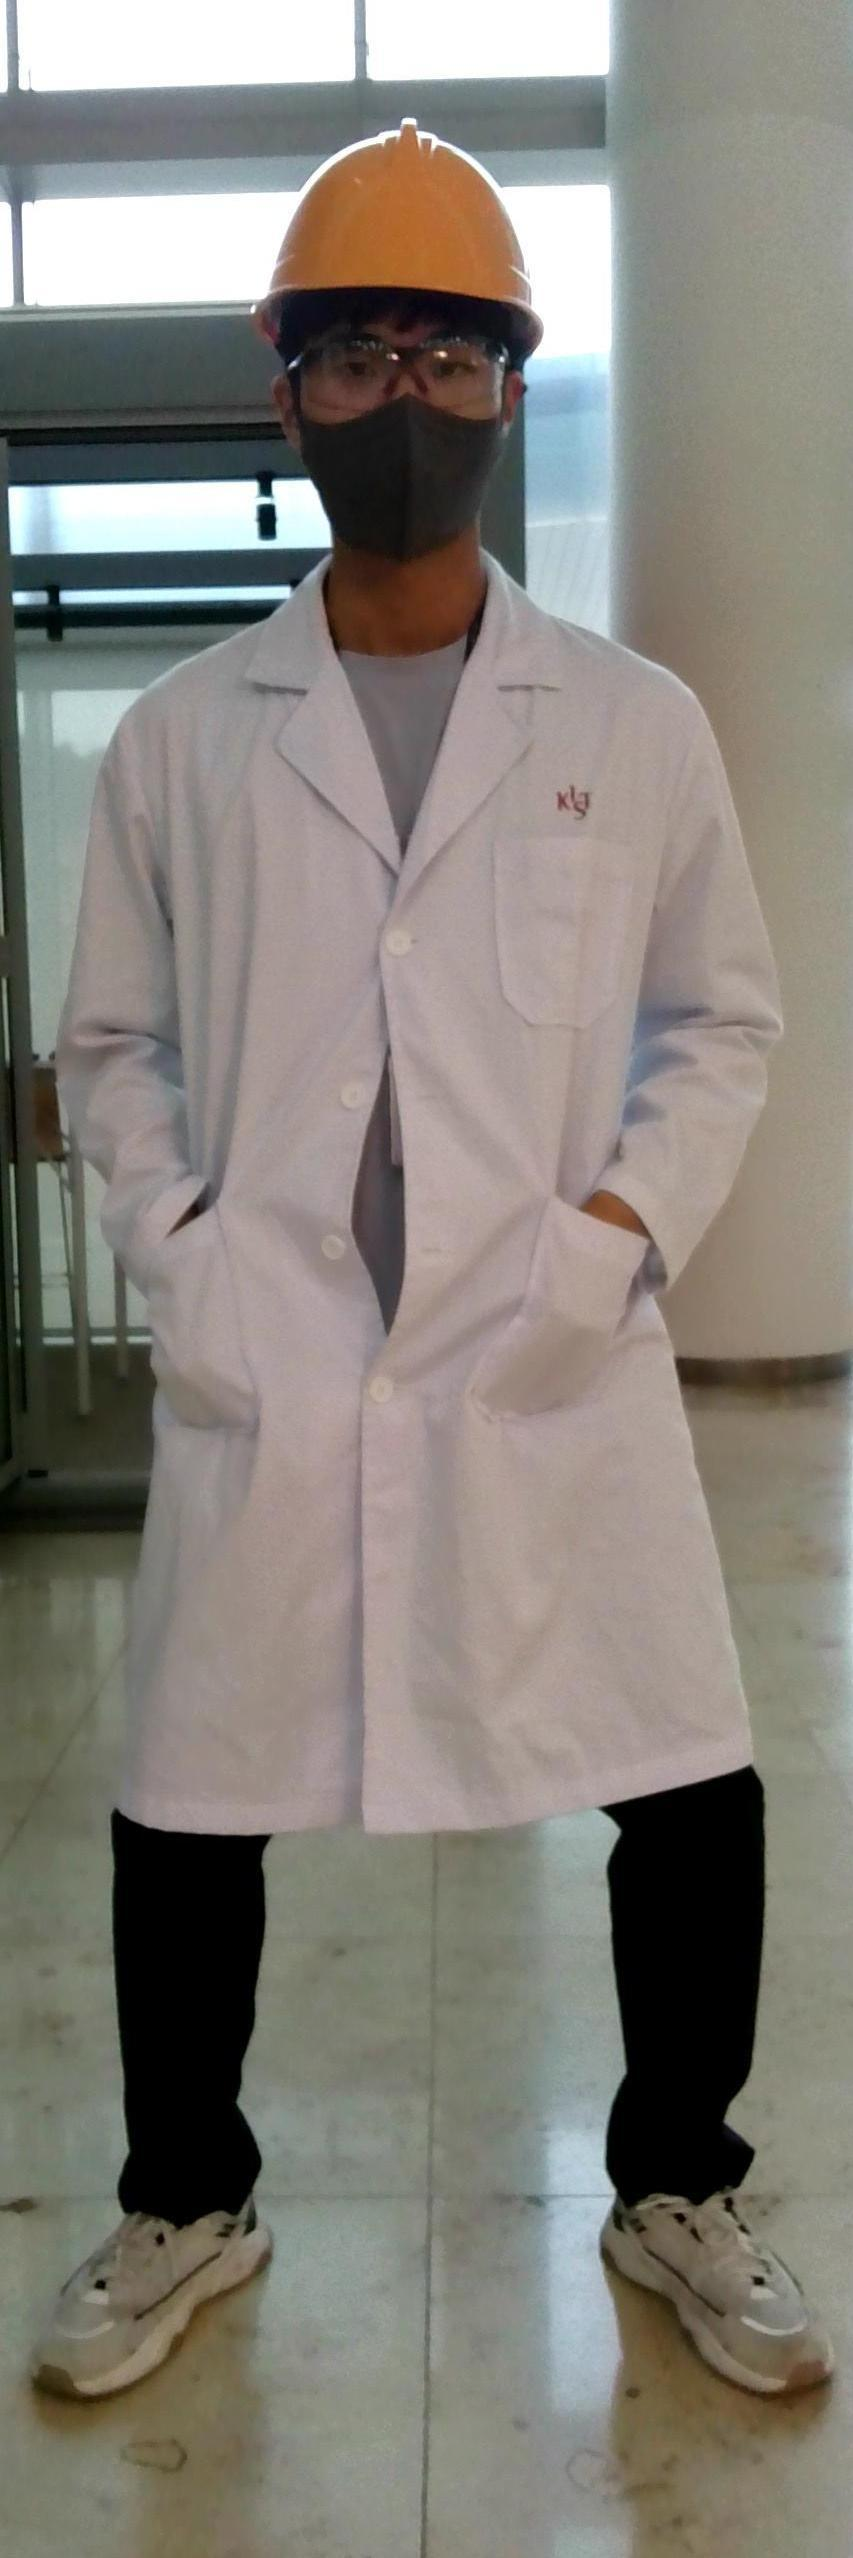lab_coat: (86, 631, 750, 1777)
